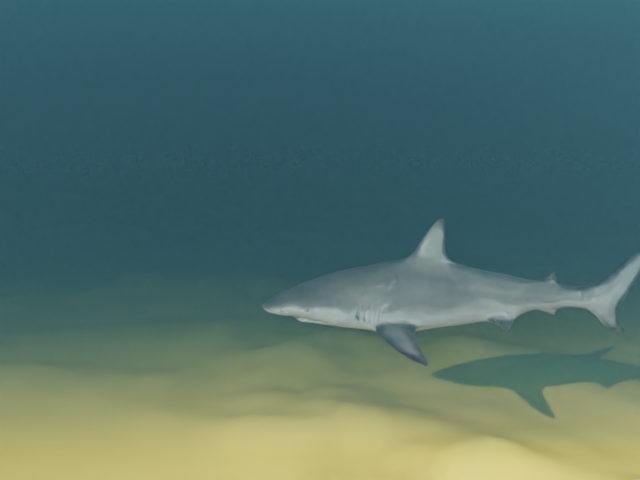Carribean Shark.001: (262, 218, 640, 367)
